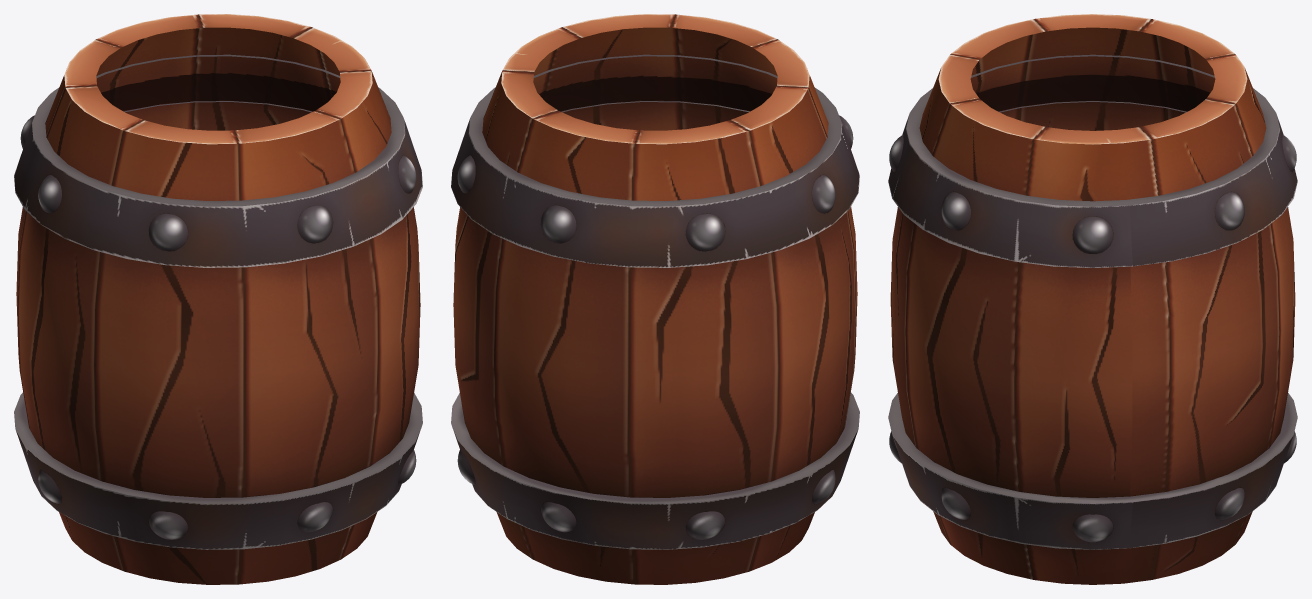
The model's file is Flowerbed_1.fbx.
3 renders of one model, left to right at view 1: azimuth 30°, elevation 25°; view 2: azimuth 150°, elevation 25°; view 3: azimuth 270°, elevation 25°, orthographic.
Visible parts, largest first — view 1: FlowerBed_1; view 2: FlowerBed_1; view 3: FlowerBed_1.
Part boxes in pixels (left/top/right/bottom): FlowerBed_1: left=14, top=14, right=422, bottom=584; FlowerBed_1: left=451, top=14, right=859, bottom=584; FlowerBed_1: left=888, top=14, right=1297, bottom=584.
Size of the model in its own units: 2.03 by 2.4 by 2.03.
